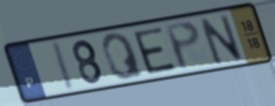8: (71, 38, 105, 86)
E: (130, 25, 179, 76)
I: (51, 38, 79, 94)
N: (196, 12, 246, 67)
P: (162, 19, 203, 72)
Q: (100, 31, 147, 82)
